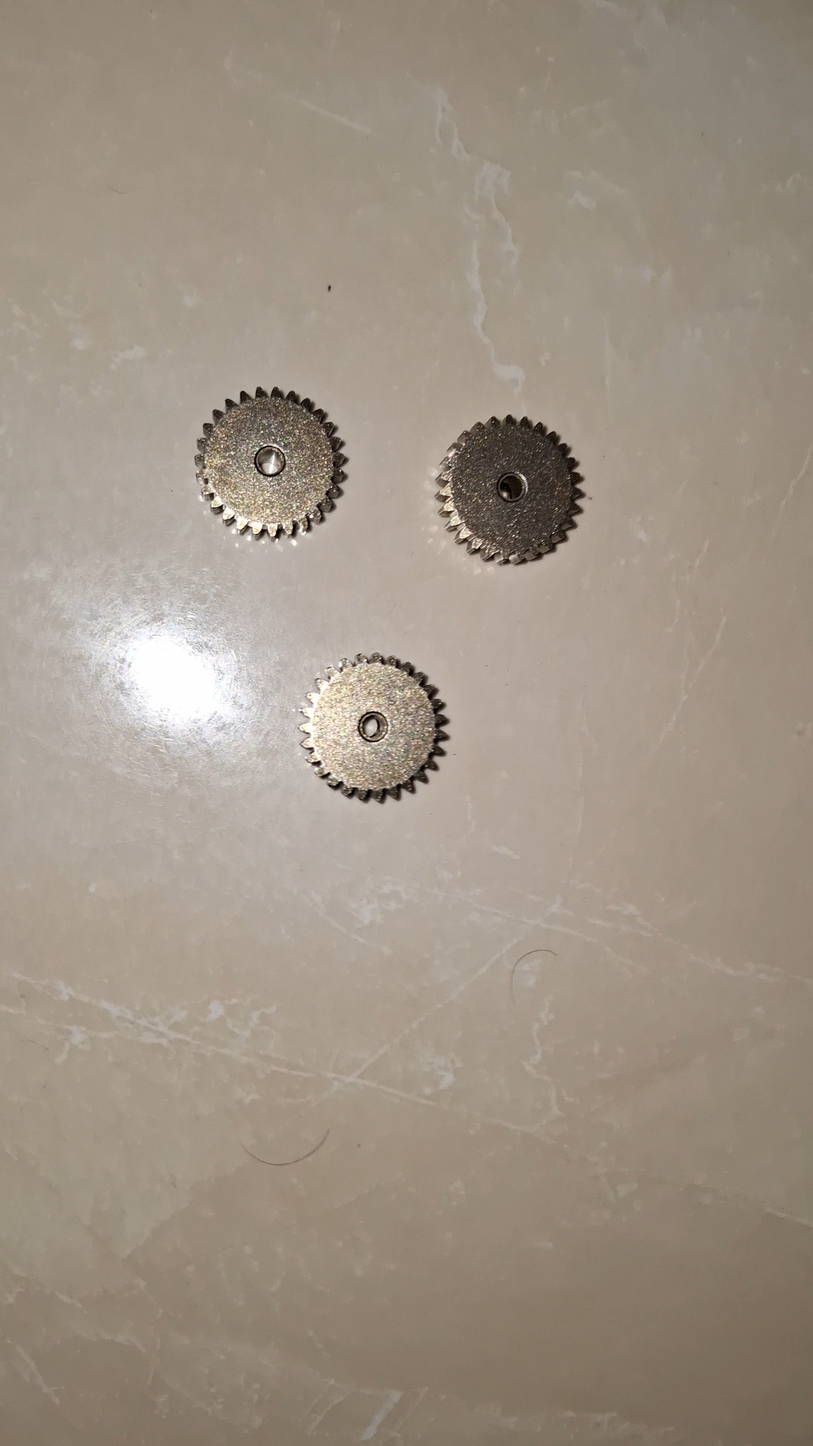spur gear: (195, 388, 346, 537), (301, 654, 447, 801), (437, 416, 583, 563)
